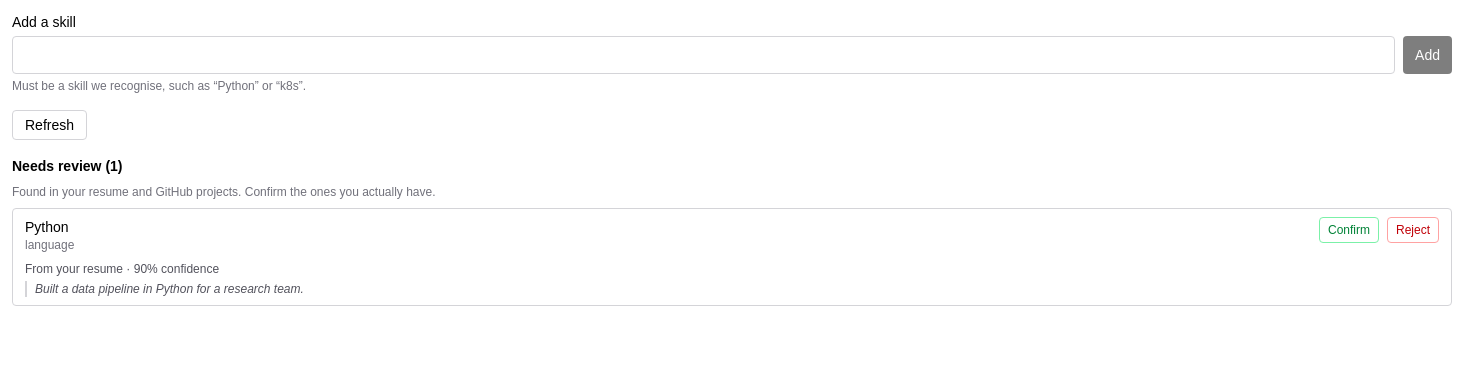
skills section › surfaces an error when confirming fails, without changing the row
Check: the text "Python" is shown, box x1=25 y1=217 x2=74 y2=237
What coordinates should you click on to do the following:
click the button "Confirm"
I would click on:
 (1349, 230)
Its box is x1=1319 y1=217 x2=1379 y2=243.
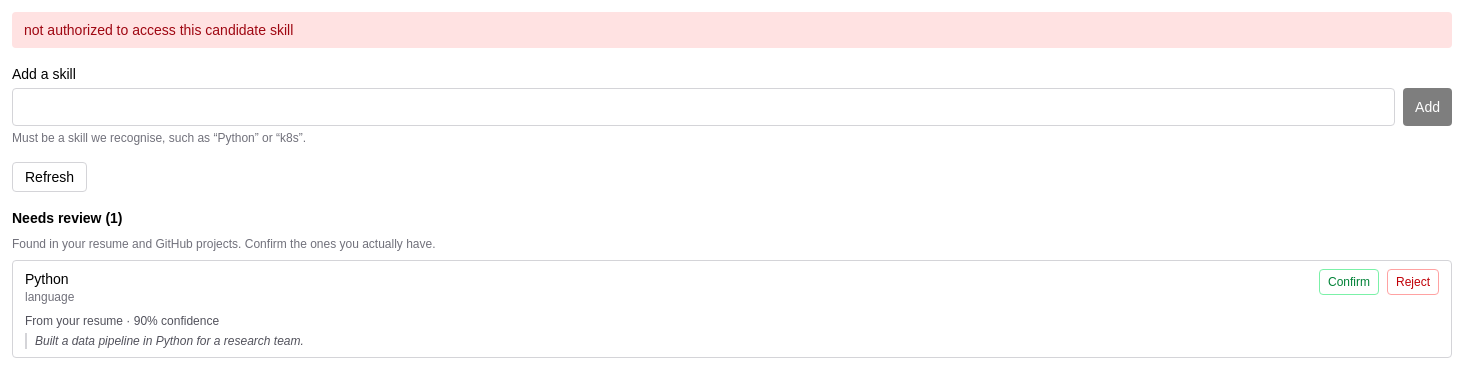
Check: the heading "Needs review (1)" is shown, box x1=12 y1=210 x2=122 y2=226
Check: the message reads "not authorized to access this candidate skill", box x1=24 y1=22 x2=293 y2=38
